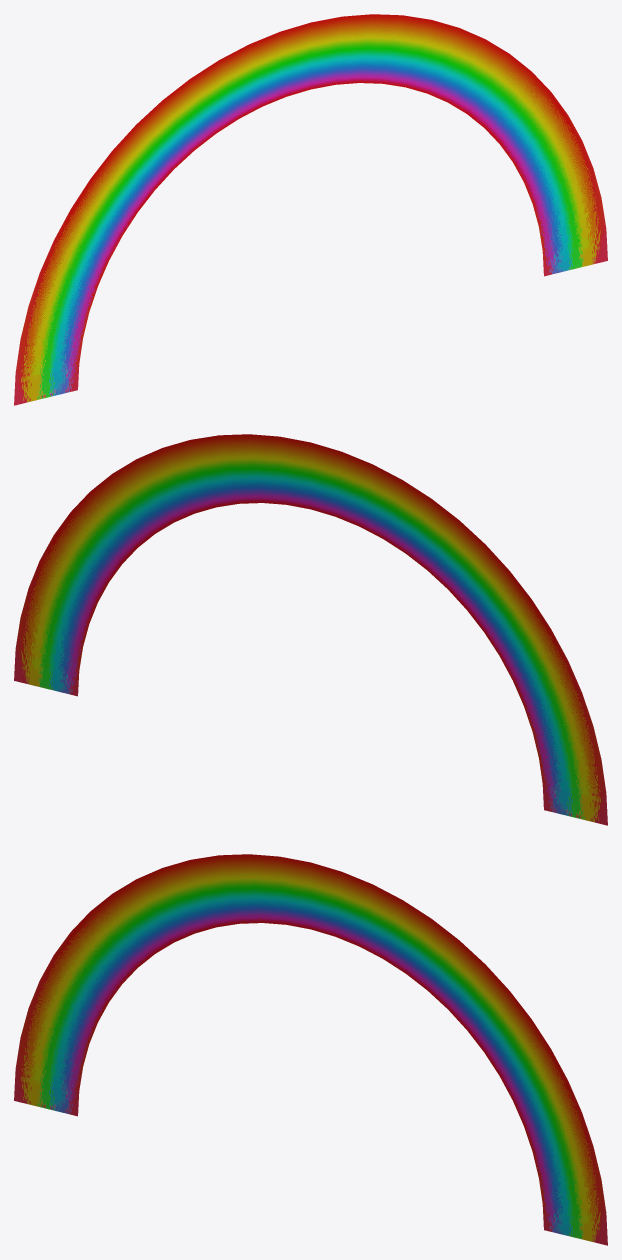
The model's file is tainbow_01.FBX.
3 views of the same model, one above another, from view 1: azimuth 30°, elevation 25°; view 2: azimuth 150°, elevation 25°; view 3: azimuth 330°, elevation 25° (orthographic).
Parts seen in each view (by area): view 1: rainbow_02; view 2: rainbow_02; view 3: rainbow_02.
Part boxes in pixels (x1,y1,x2,y2): rainbow_02: (14, 14, 607, 405); rainbow_02: (14, 434, 607, 825); rainbow_02: (14, 854, 607, 1245).
Size of the model in its own units: 249 by 124 by 1.94e-05.
